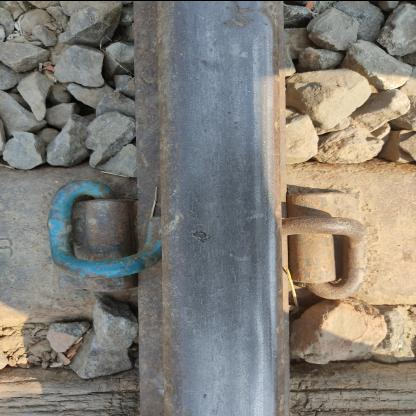Non Defective: (26, 146, 373, 336)
